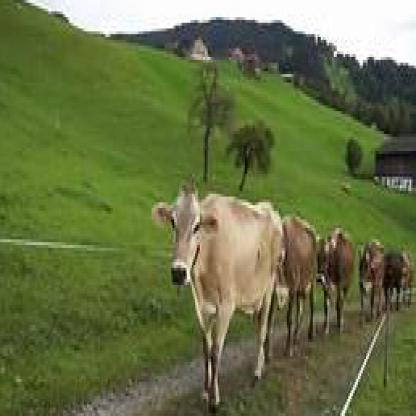cow: (152, 186, 282, 410)
